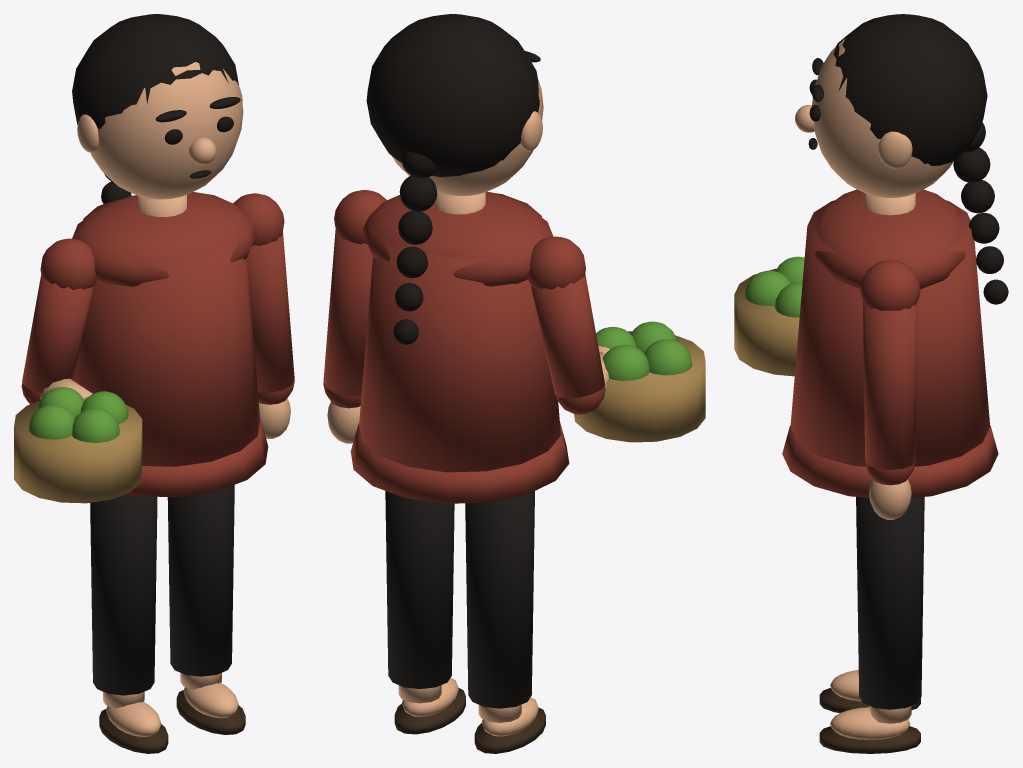
The model's file is villager_girl.glb.
The picture shows the model from 3 angles, left to right: view 1: azimuth 30°, elevation 25°; view 2: azimuth 150°, elevation 25°; view 3: azimuth 270°, elevation 25°; orthographic projection. The views are drawn at different scales.
Visible parts, largest first — view 1: Body, Head, ArmL, LegL, LegR, ArmR; view 2: Body, Head, ArmL, LegL, LegR, ArmR; view 3: Body, Head, LegR, ArmR, ArmL, LegL.
Boxes of the visible parts, x1,y1,x2,y2 form: Body: (72,192,268,497); Head: (72,14,243,203); ArmL: (14,238,142,503); LegL: (90,494,168,753); LegR: (167,485,245,734); ArmR: (233,193,294,438); Body: (350,191,569,503); Head: (366,14,543,344); ArmL: (527,236,705,442); LegL: (465,491,545,753); LegR: (385,491,465,734); ArmR: (323,190,387,443); Body: (782,189,998,497); Head: (795,14,1008,304); LegR: (819,497,924,753); ArmR: (860,260,920,519); ArmL: (734,256,804,376); LegL: (819,670,920,712).
Bounding box in the file's own units: 0.73 × 1.54 × 0.545.
